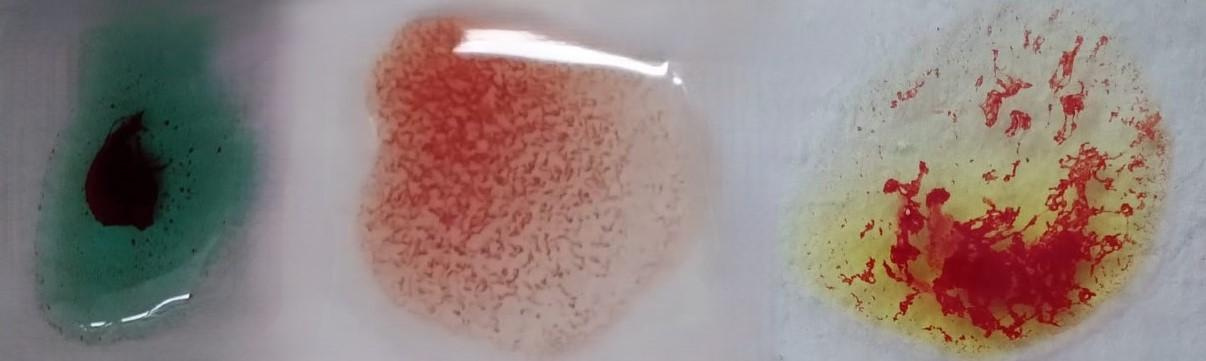A: (36, 27, 230, 334)
B: (785, 18, 1158, 360)
D: (358, 28, 669, 337)
